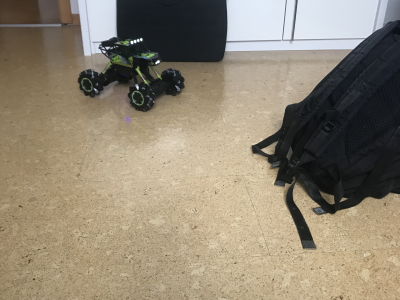remote control car: (76, 34, 186, 112)
